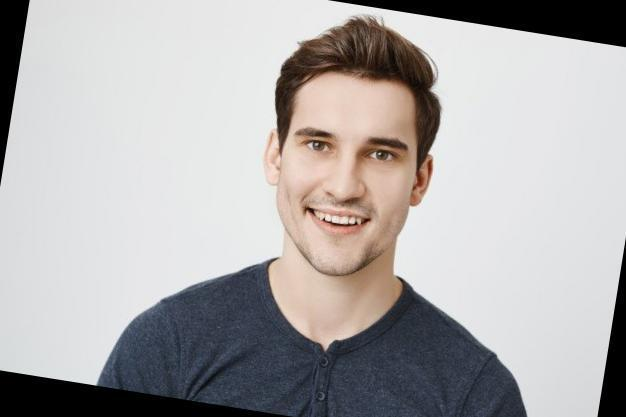Sober: (287, 75, 413, 271)
